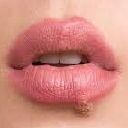Cold Sore: (76, 97, 92, 114)
